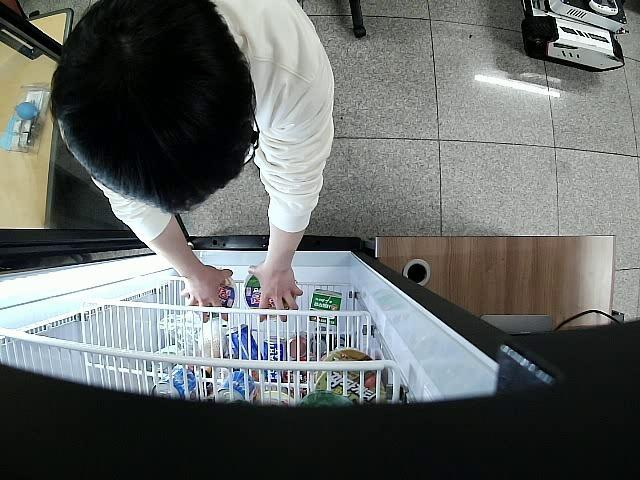09_yukGaeJang: (243, 270, 298, 317), (186, 275, 238, 322)
